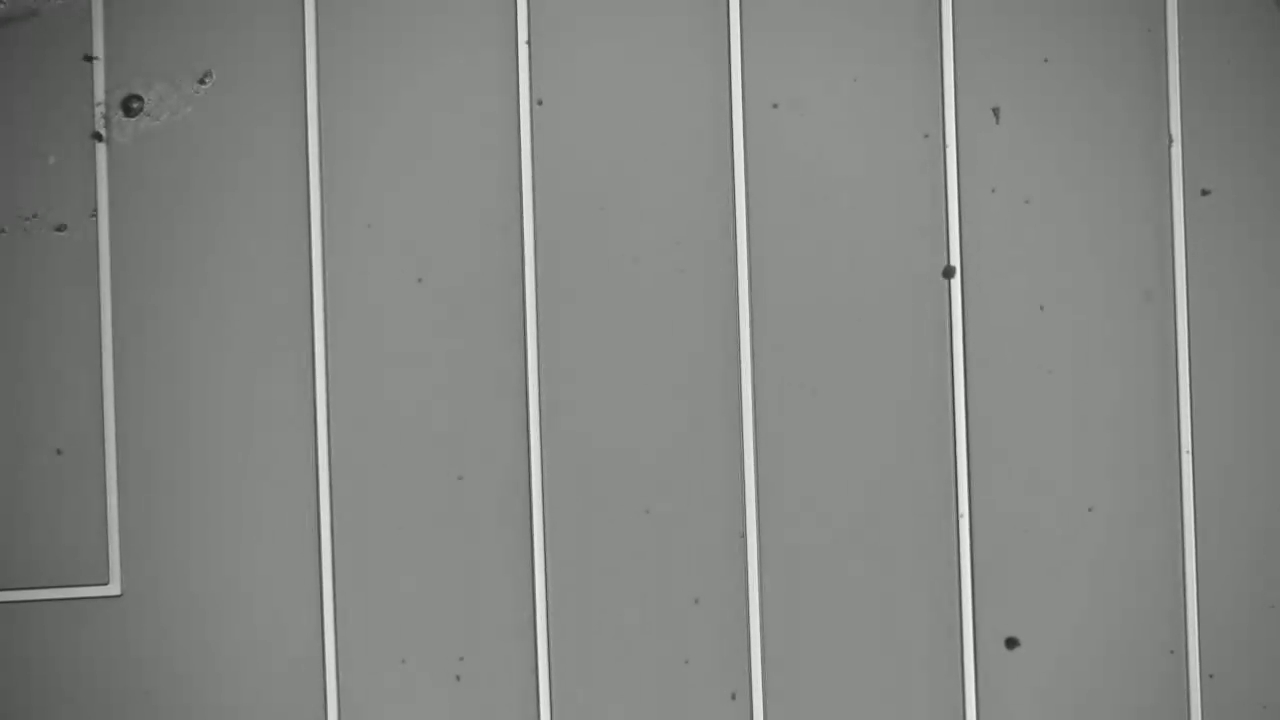stains_enbedded: (80, 122, 120, 154), (937, 253, 969, 286), (73, 41, 113, 66)
